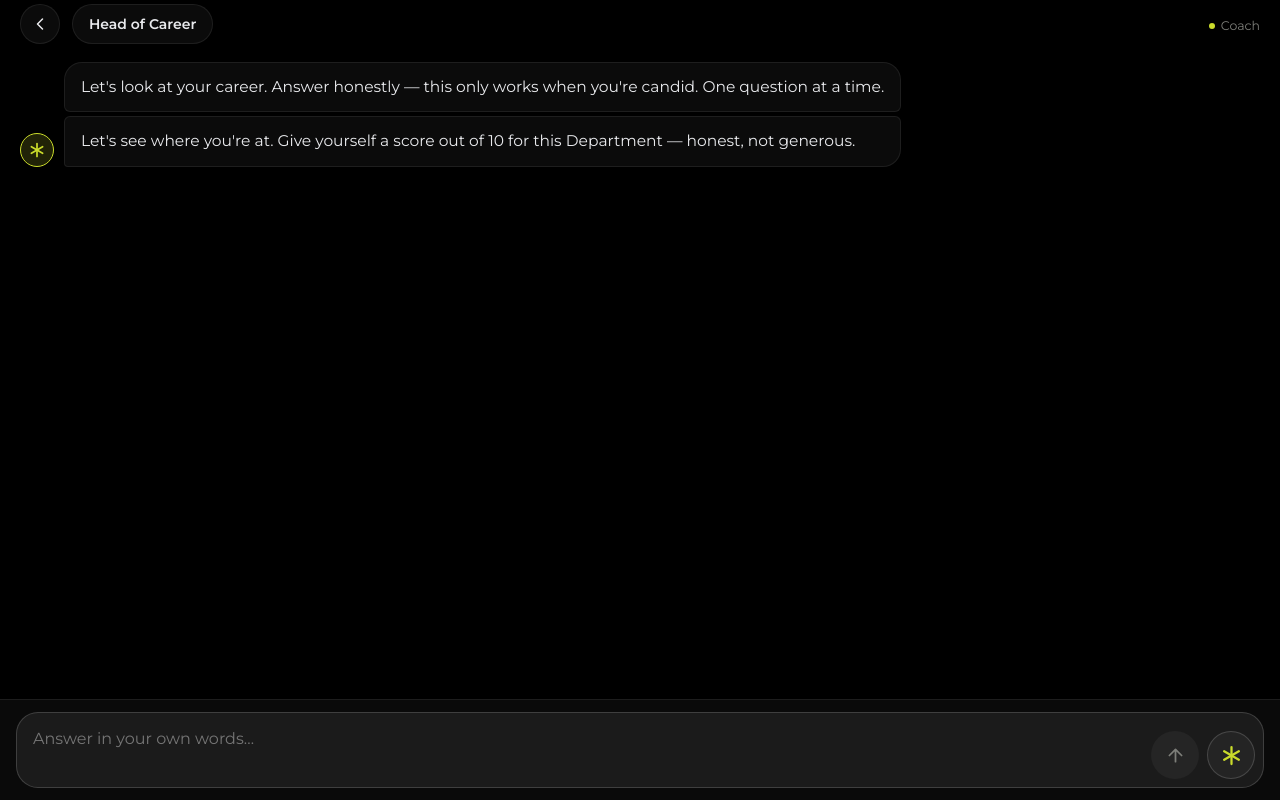
Test: ChatQuestions LLM acknowledgement › still surfaces a follow-up question when the model classifies "answer" but leaves the acknowledgement blank
This screenshot has width=1280, height=800.
Step 1. Type "7 out of 10" into the text box with placeholder "Answer in your own words…" → (588, 750), box [33,721,1143,779]
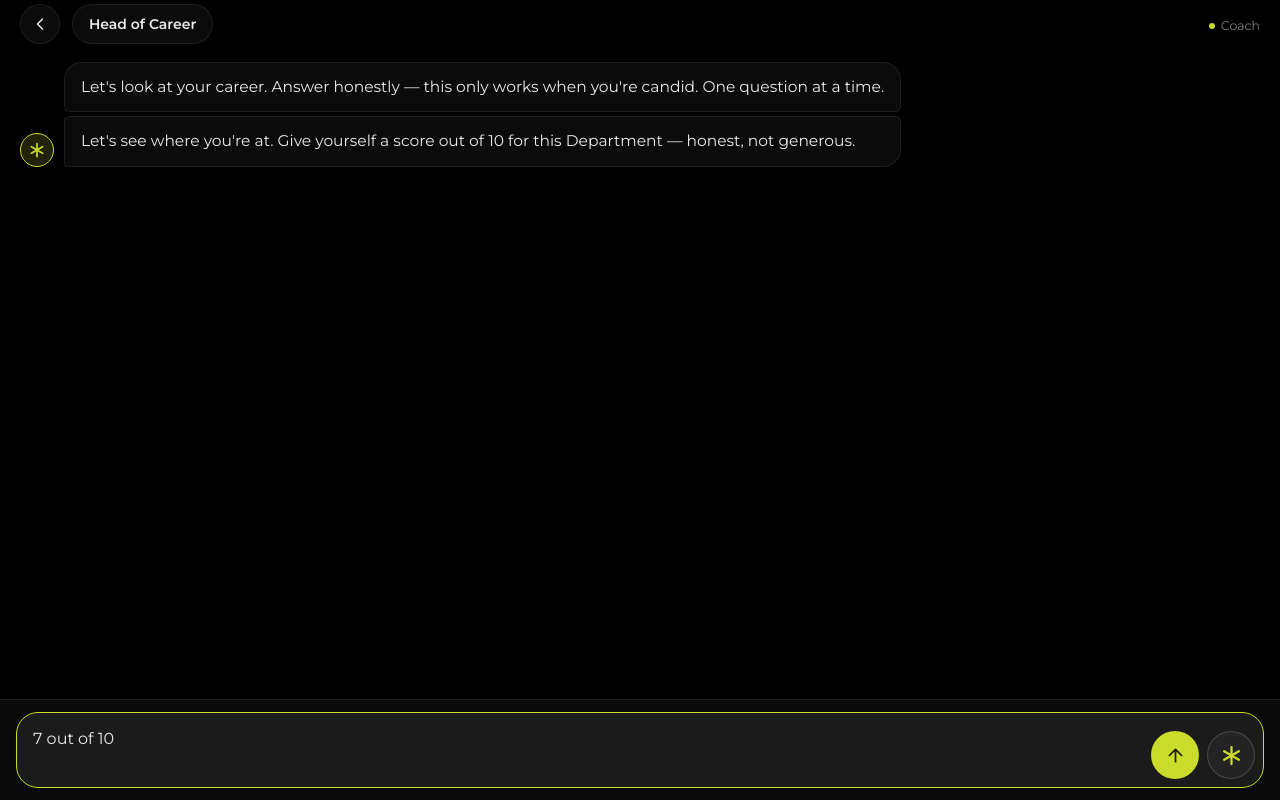
Step 2. Click the 2nd button → (1175, 755), box [1151,731,1199,779]
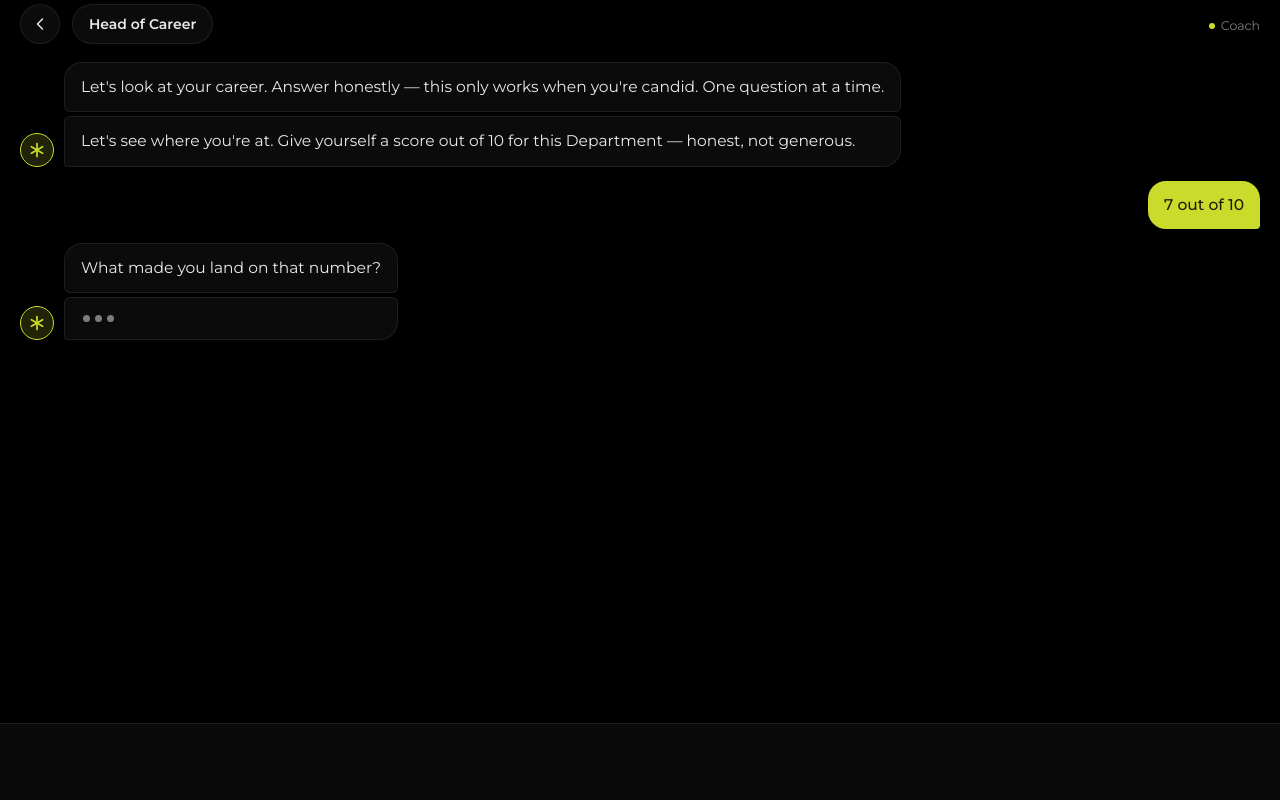
Result: the text "What made you land on that number?" is shown at [64,243,398,293]
